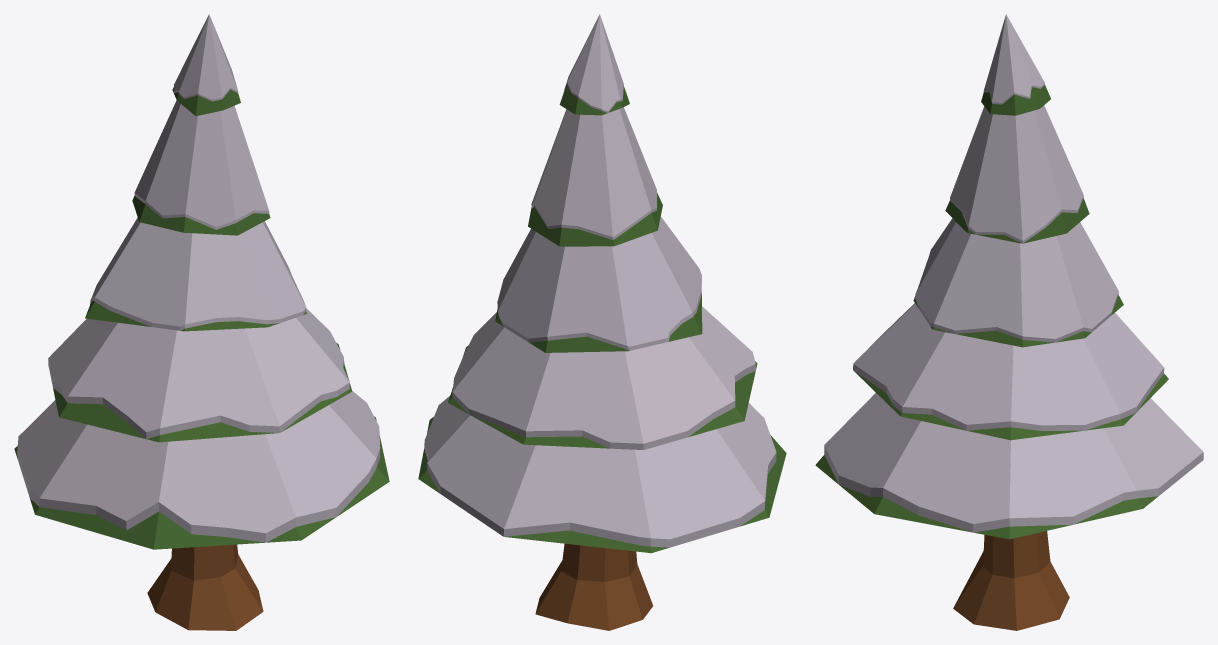
File: SNOW TREE 2.fbx
3 views of the same model, side by side, from view 1: azimuth 30°, elevation 25°; view 2: azimuth 150°, elevation 25°; view 3: azimuth 270°, elevation 25° (orthographic).
Visible parts, largest first — view 1: SNOW PINE TREE 1; view 2: SNOW PINE TREE 1; view 3: SNOW PINE TREE 1.
Part boxes in pixels (x1,y1,x2,y2): SNOW PINE TREE 1: (14, 14, 389, 630); SNOW PINE TREE 1: (418, 14, 786, 630); SNOW PINE TREE 1: (815, 14, 1203, 630).
Bounding box in the file's own units: 600 × 1007 × 597.
